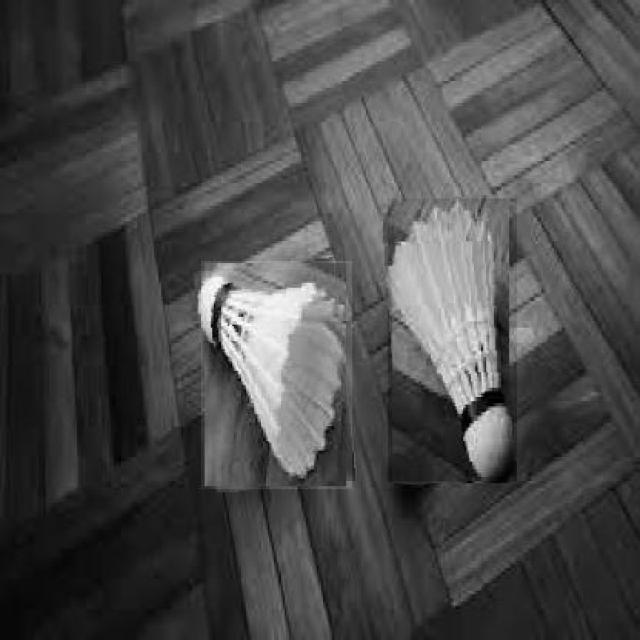Shuttlecock: (386, 197, 515, 480), (200, 260, 352, 489)
